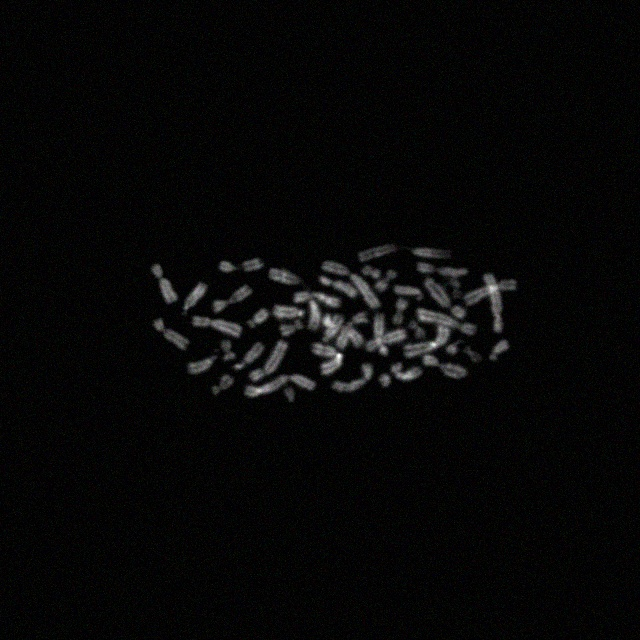chromosome: (322, 262, 382, 308), (246, 374, 316, 398), (426, 278, 466, 318), (418, 308, 474, 336), (404, 322, 450, 356), (250, 340, 286, 380), (464, 280, 516, 304), (323, 314, 362, 346), (424, 354, 468, 380), (333, 363, 372, 392), (483, 274, 502, 332), (192, 316, 240, 338), (338, 314, 368, 348), (213, 286, 251, 312), (152, 264, 176, 304), (154, 320, 188, 348), (366, 330, 406, 352), (320, 276, 358, 298), (293, 292, 341, 308), (358, 244, 398, 262), (234, 344, 264, 368), (418, 263, 468, 277), (185, 282, 207, 310), (392, 362, 422, 382), (188, 354, 218, 374), (374, 314, 388, 356), (323, 316, 343, 342), (268, 268, 300, 284), (375, 270, 397, 292), (321, 353, 343, 375), (393, 284, 423, 300), (412, 248, 451, 260), (308, 300, 322, 332), (212, 374, 234, 394), (274, 304, 304, 318), (280, 319, 304, 336), (489, 341, 509, 361), (248, 308, 268, 328), (393, 299, 407, 323), (312, 344, 336, 358), (407, 321, 425, 339), (243, 258, 263, 272), (464, 346, 481, 362), (451, 280, 463, 300), (222, 341, 234, 361), (362, 266, 380, 278), (284, 387, 296, 403), (220, 262, 236, 272), (380, 374, 390, 388), (447, 344, 457, 354)
